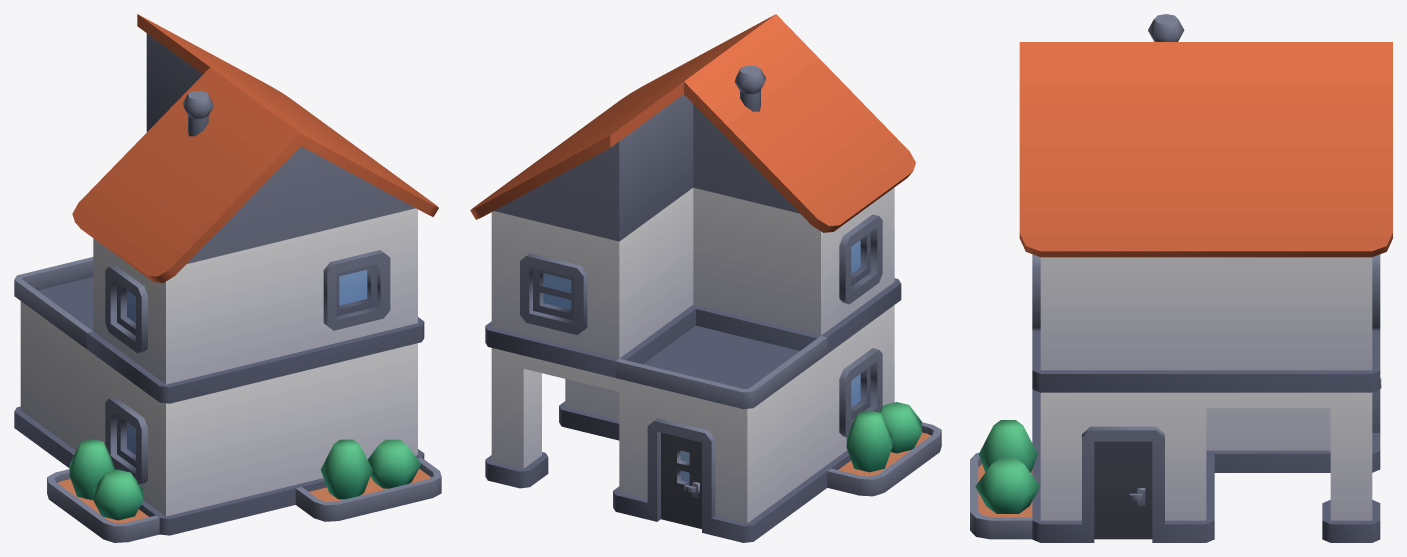
The model's file is house_suburb_r_warm.glb.
3 renders of one model, left to right at view 1: azimuth 30°, elevation 25°; view 2: azimuth 150°, elevation 25°; view 3: azimuth 270°, elevation 25°, orthographic. The views are drawn at different scales.
Parts seen in each view (by area): view 1: building-type-r; view 2: building-type-r; view 3: building-type-r.
Boxes of the visible parts, box(x1,y1,x2,y2) form: building-type-r: box(14, 14, 441, 542); building-type-r: box(470, 14, 941, 542); building-type-r: box(970, 14, 1392, 542).
Size of the model in its own units: 1.03 by 1.14 by 1.02.
Materials: 1 (1 with a texture image).
